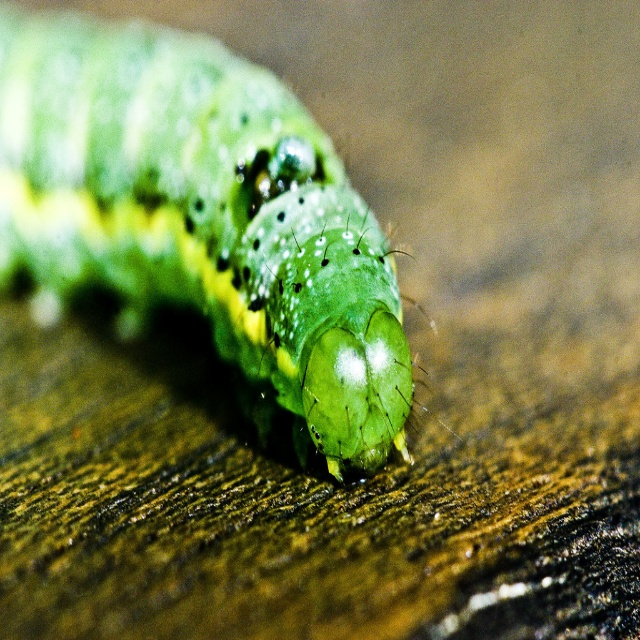Caterpillar: (0, 8, 463, 484)
